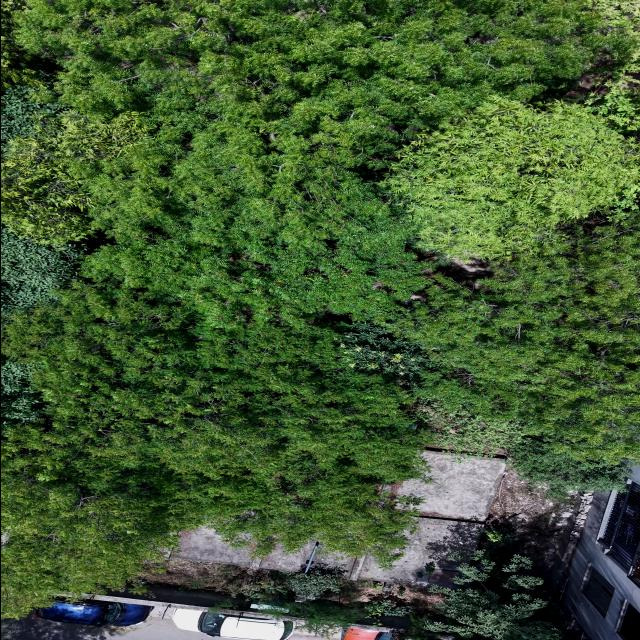DRY_AREA: (483, 466, 591, 578)
VEGETATION_TREE: (1, 0, 639, 616), (399, 220, 639, 465), (190, 528, 576, 639), (388, 98, 639, 260), (131, 561, 423, 636), (1, 111, 148, 246), (128, 559, 363, 624), (408, 547, 573, 639), (1, 227, 85, 316), (510, 437, 629, 498), (260, 592, 369, 635), (1, 85, 61, 145), (286, 569, 345, 601), (365, 599, 412, 617)
